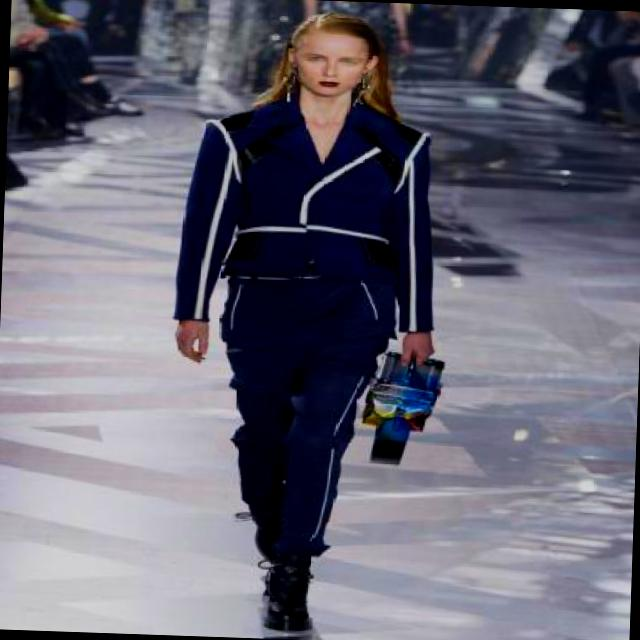Person: (172, 9, 454, 640)
